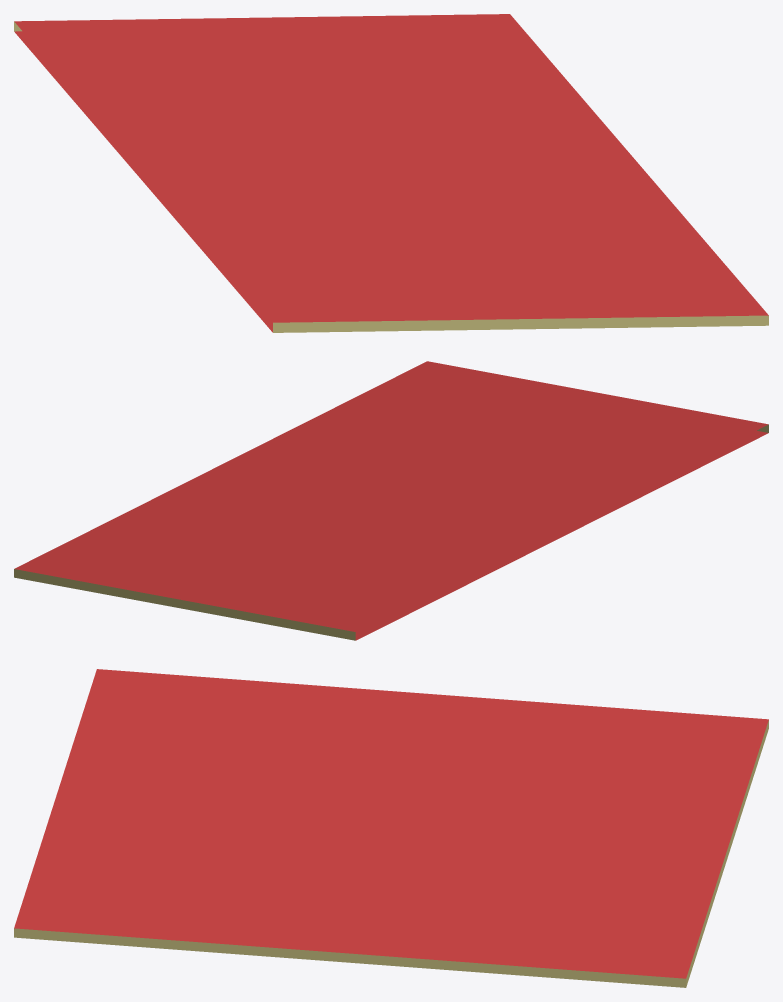
3 views of the same model, one above another, from view 1: azimuth 30°, elevation 25°; view 2: azimuth 150°, elevation 25°; view 3: azimuth 270°, elevation 25° (orthographic). The views are drawn at different scales.
Size of the model in its own units: 5.77 by 7.43 by 0.772.
